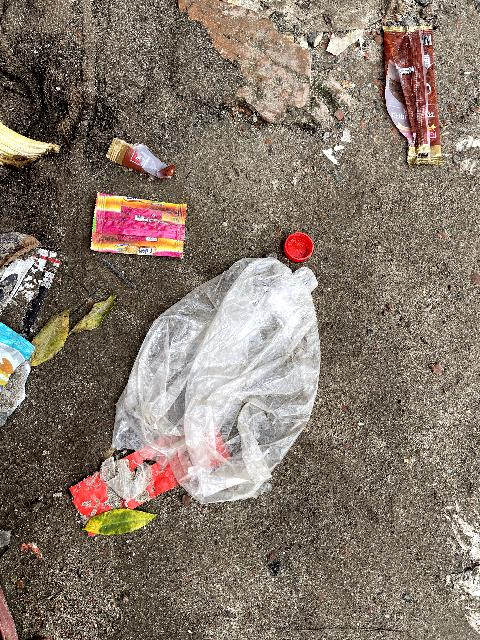polythene: (102, 267, 348, 491)
